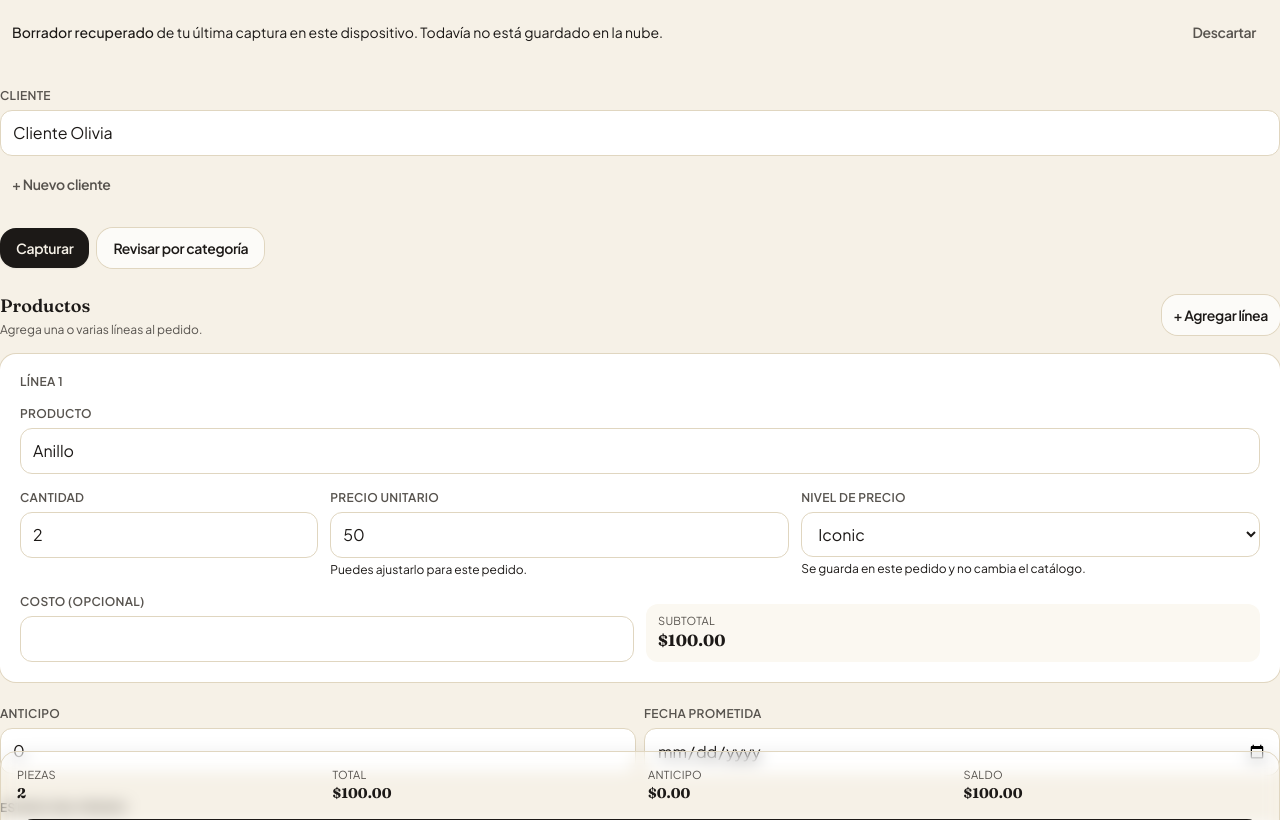
Test: recovered order drafts › discards a restored draft without recreating it
The width and height of the screenshot is (1280, 820).
Click the button "Descartar": (1224, 32) [1180,12,1268,52]
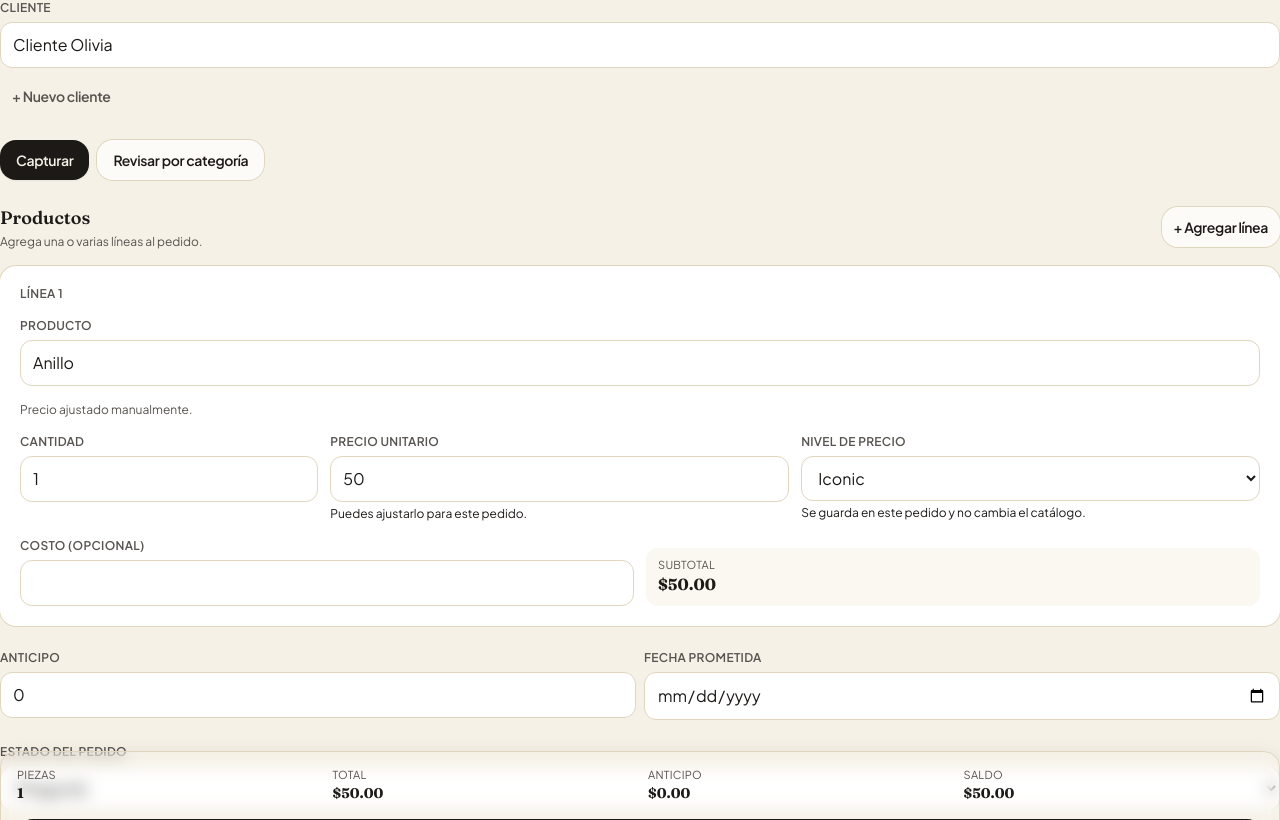
Expected: the text "Borrador recuperado" is gone
